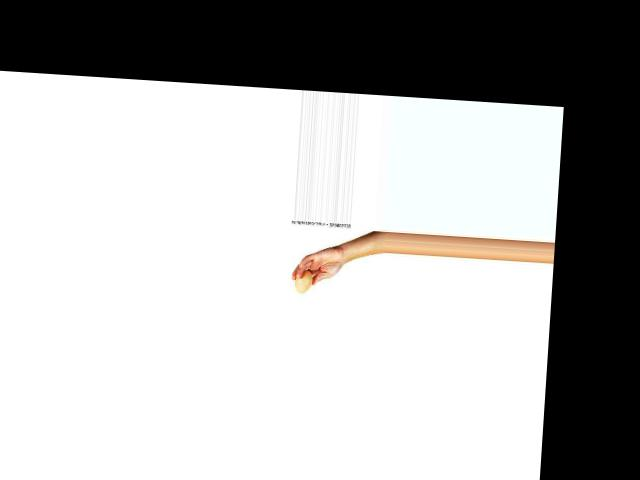egg: (294, 268, 313, 294)
